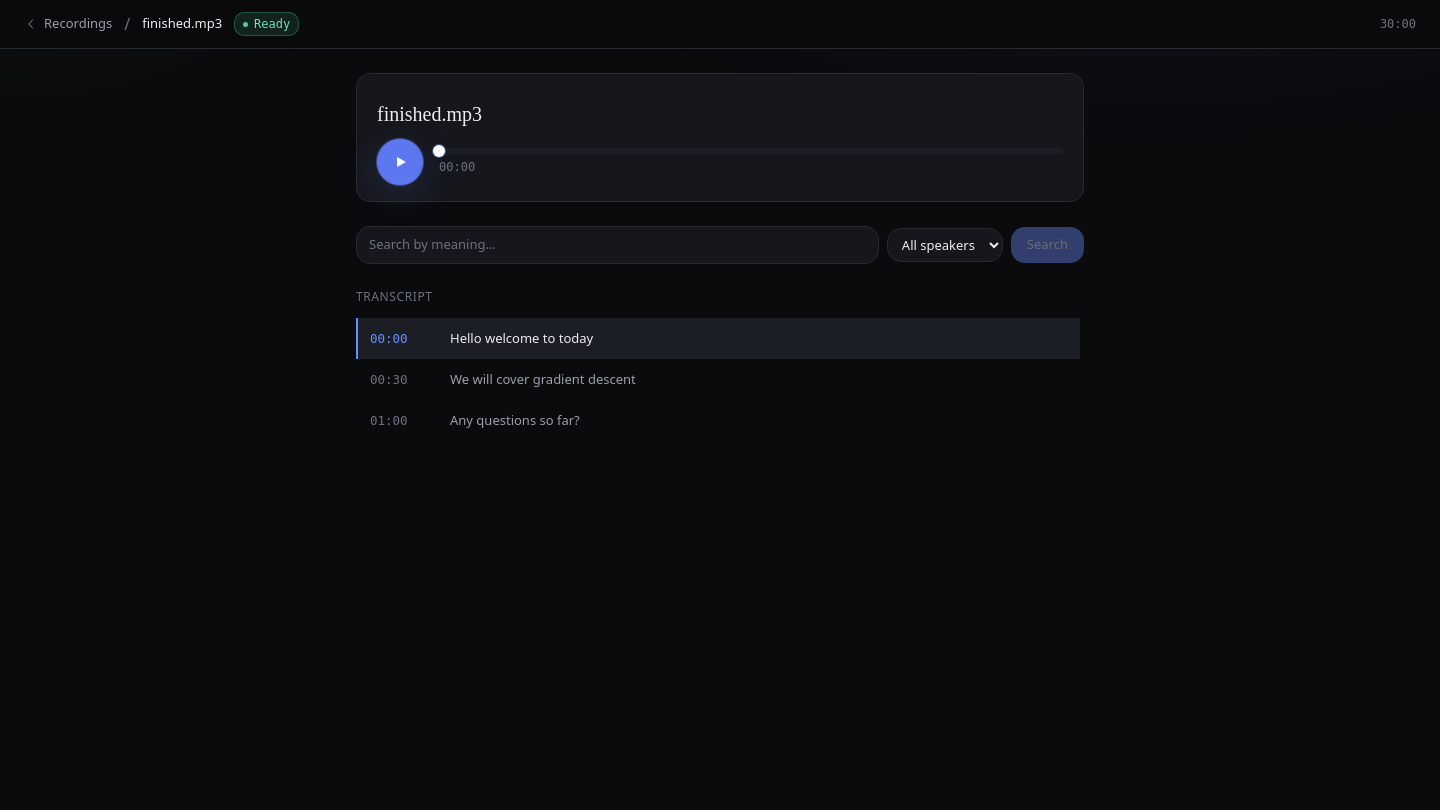
type query + submit → MSW returns 2 results → 2 result cards rendered
Type "gradient descent" into the field named "Search recording". click: [617, 245]
box: [356, 226, 879, 264]
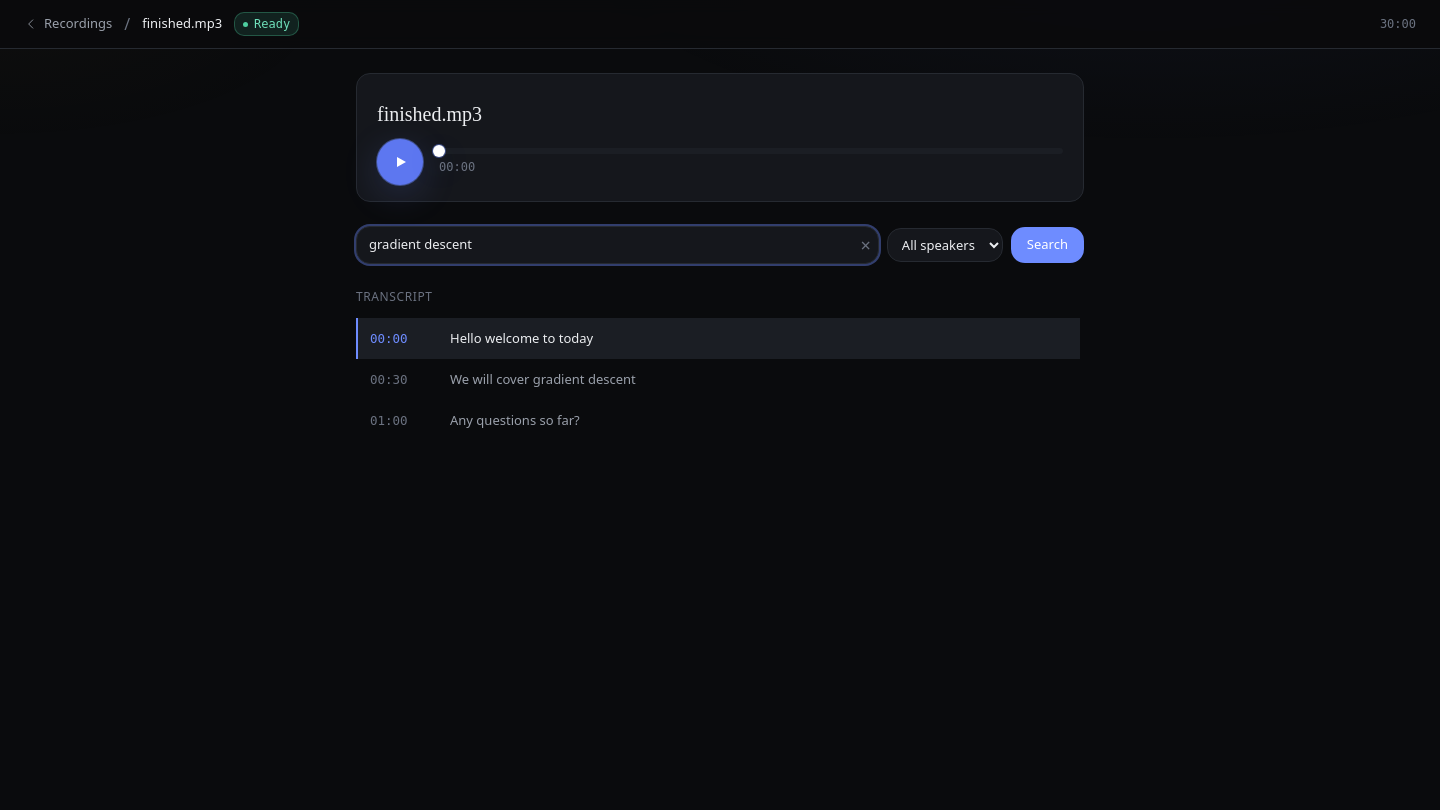
Click the button "Search". click: [1047, 245]
box: [1011, 227, 1084, 262]
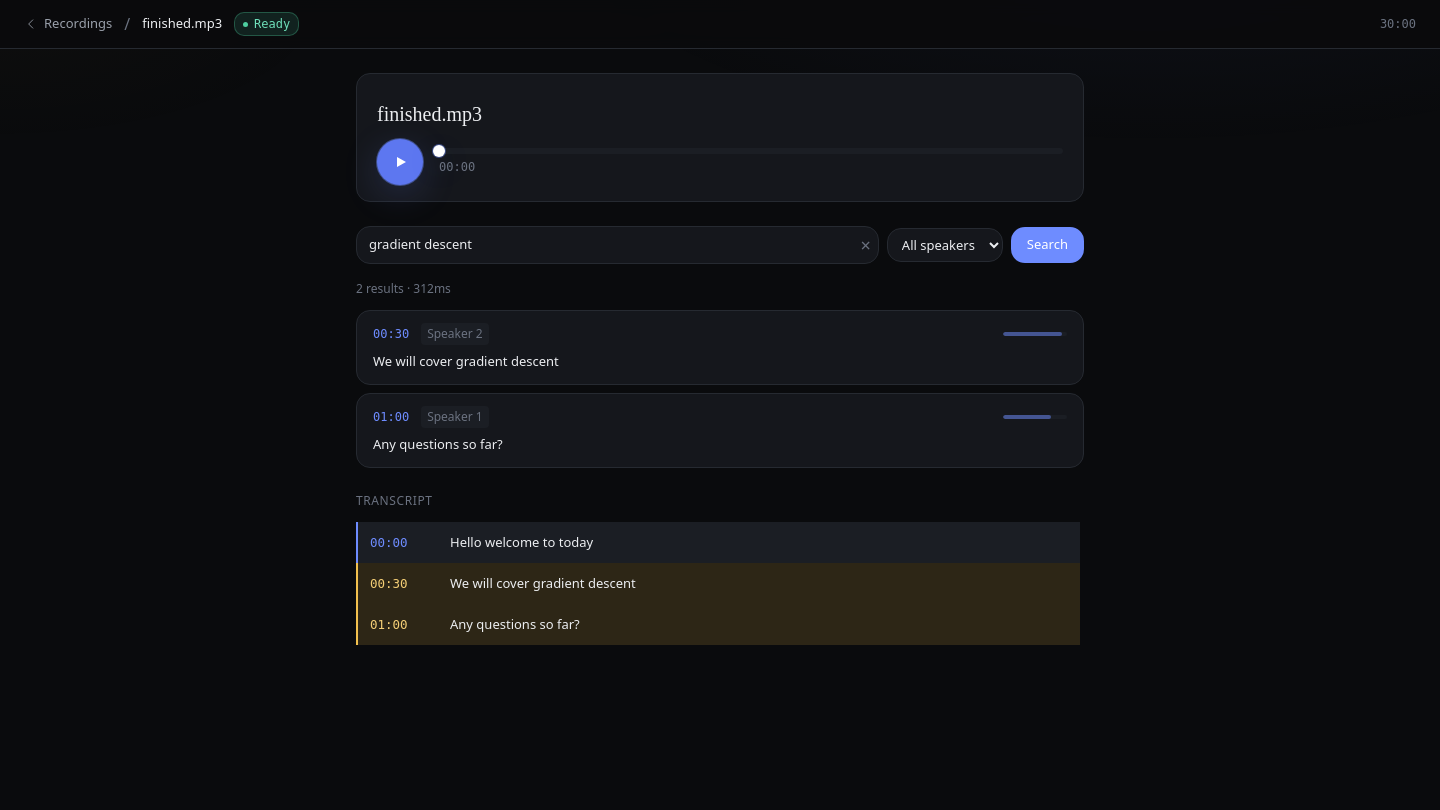
Result: the list named "Search results" is shown at [356, 310, 1084, 468]
